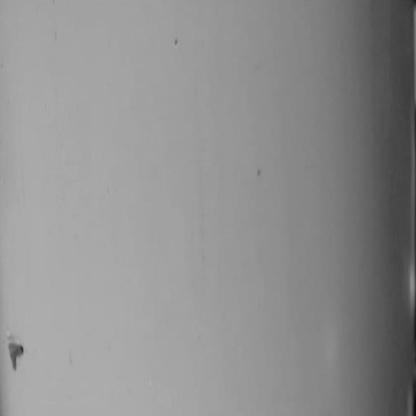kongdong: (1, 335, 31, 372)
